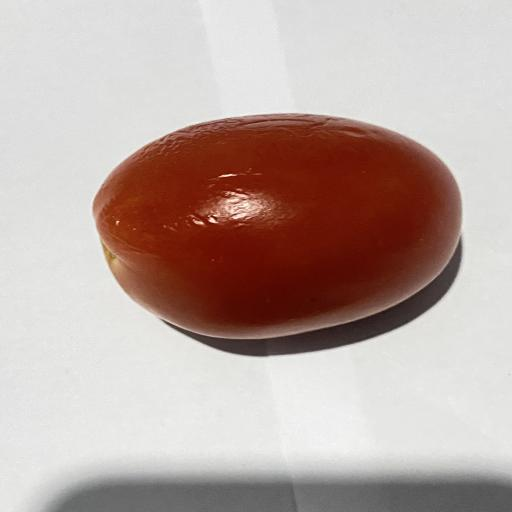spoiled: (94, 114, 461, 338)
